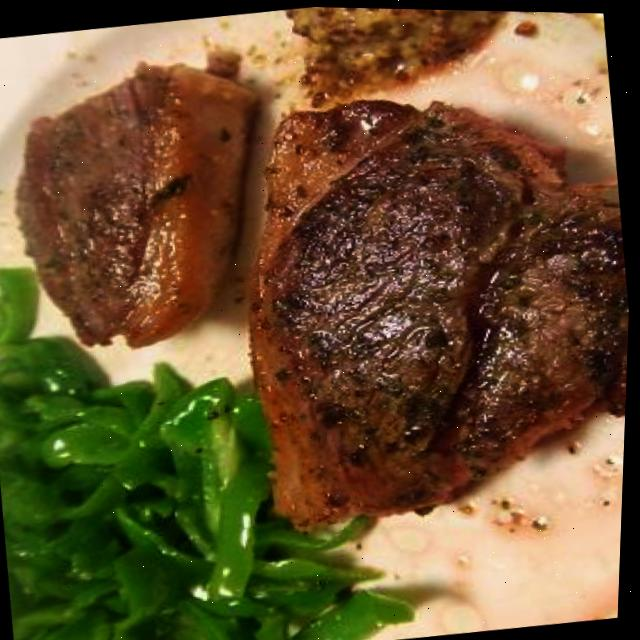牛肉菜式: (207, 59, 638, 543)
